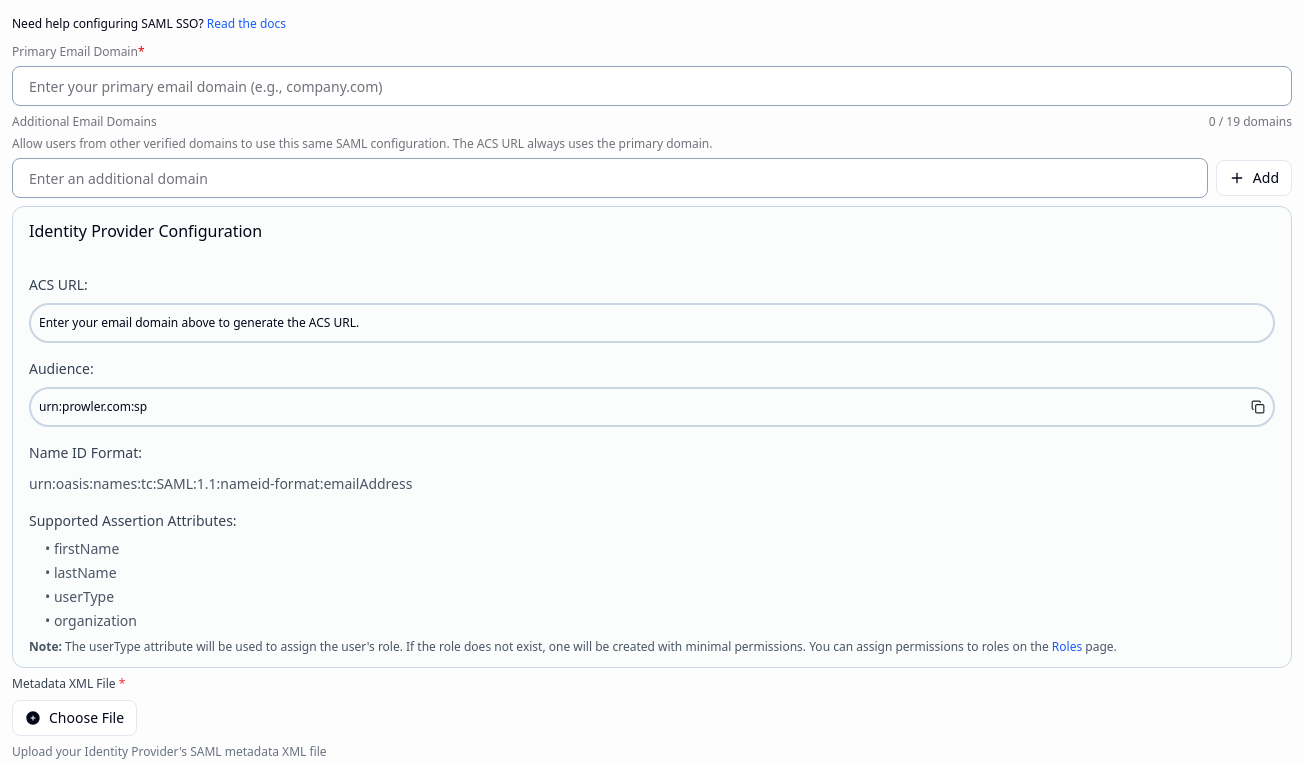
it: SamlConfigForm › shows a contextual error when an additional domain is required
This screenshot has width=1304, height=766.
Click the button with aria-label "Add domain" at (1254, 178), box [1216, 160, 1292, 196]
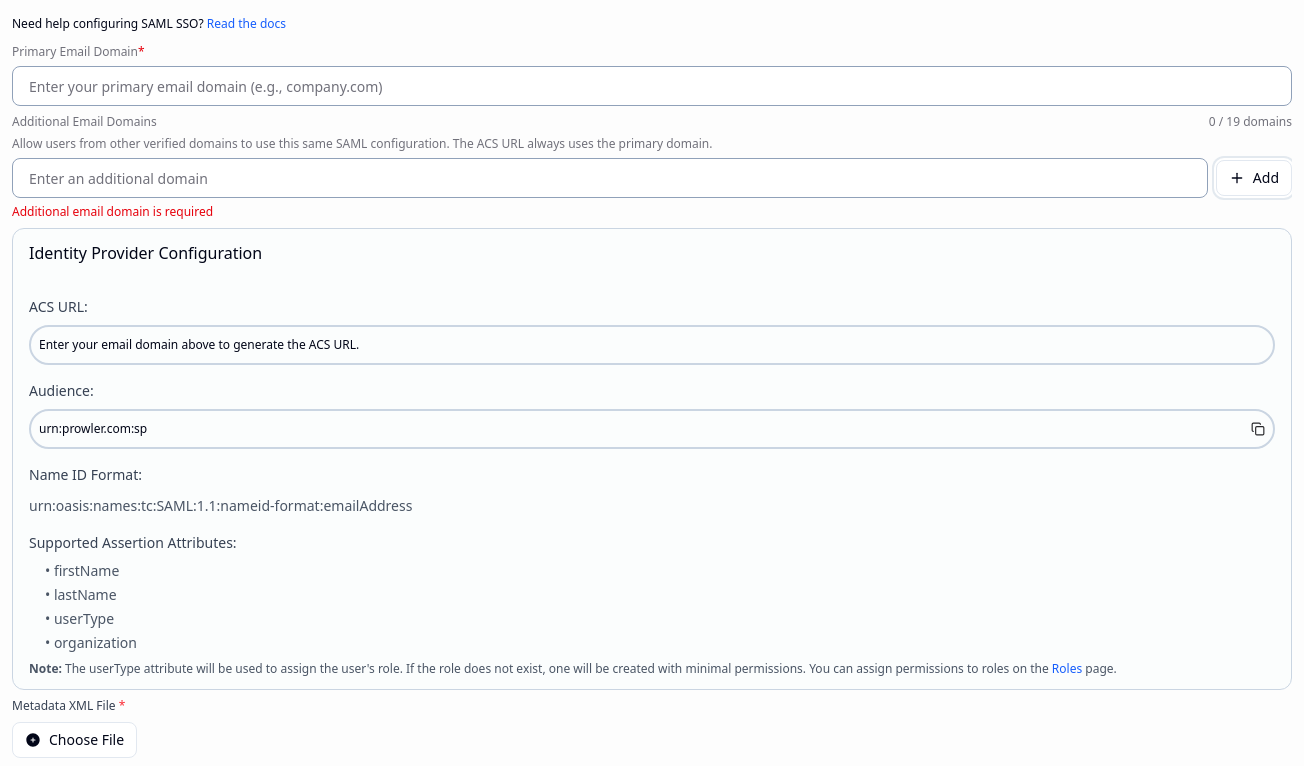
Check: the text "Additional email domain is required" is shown, box [12, 203, 213, 220]
